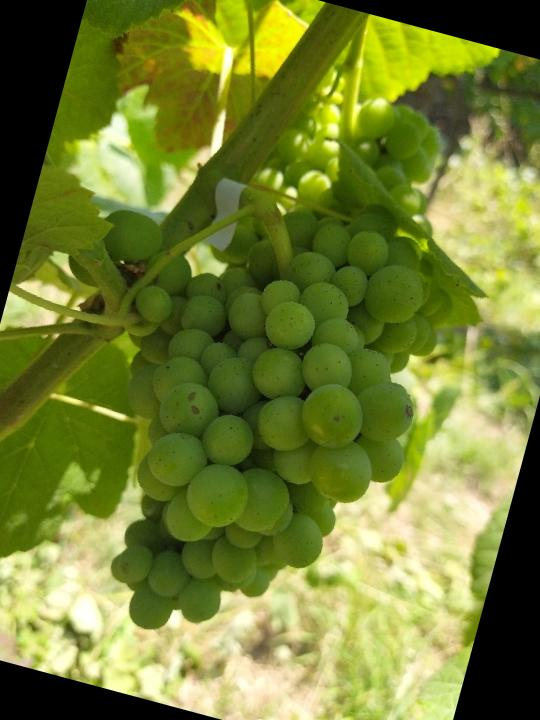grape: (0, 131, 468, 686)
